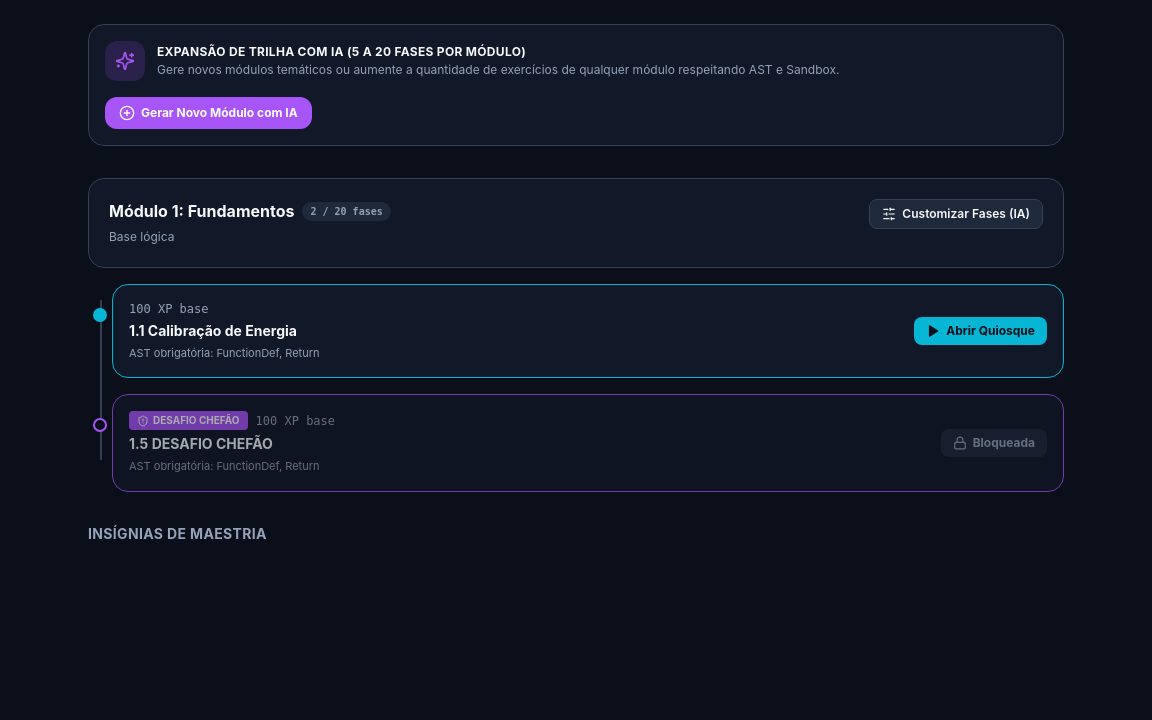
Test case: LogicKiosk UI & Stores › bloqueia acesso a fases LOCKED no SkillTreeGraph (Hard Gatekeeping)
Click the button "1.5 DESAFIO CHEFÃO" at {"x": 188, "y": 420}, box [112,394,1064,492]
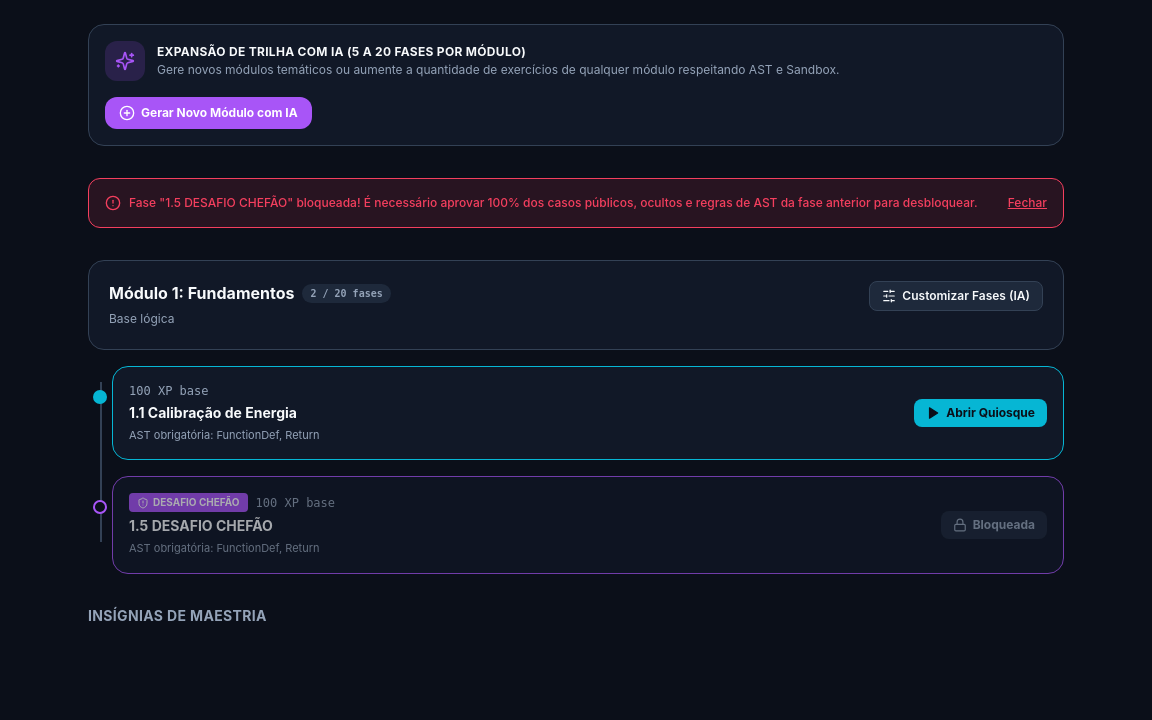
expect the message shows "bloqueada": met, box [129,195,978,210]
